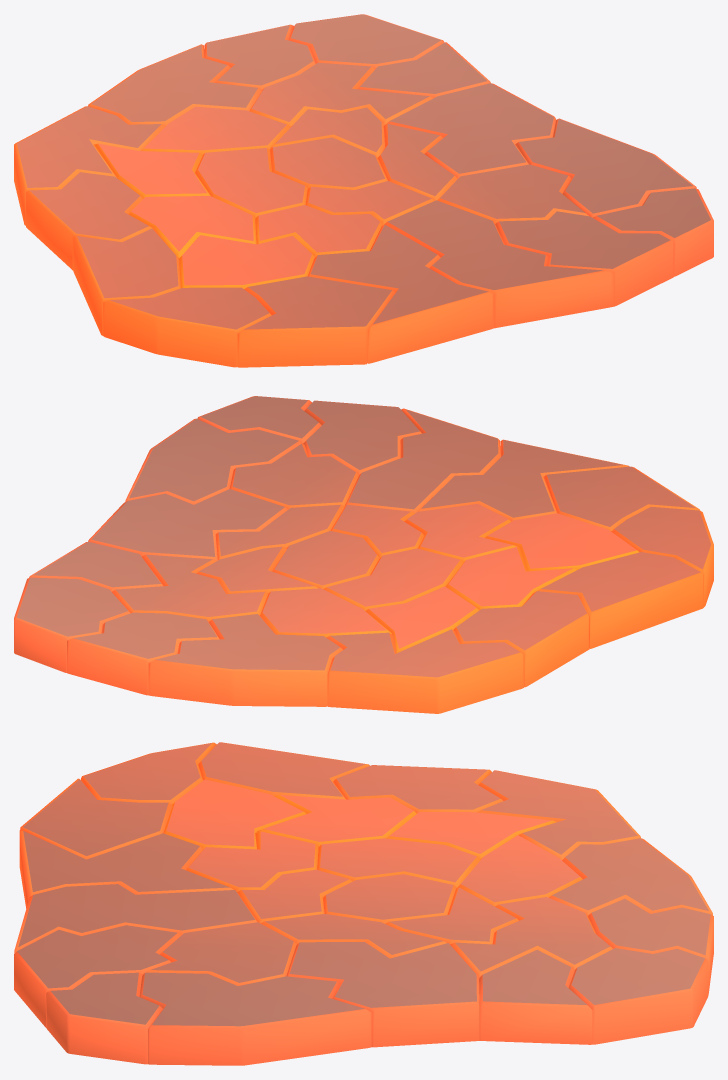
Rendered from ChaoSumo.fbx.
3 renders of one model, top to bottom at view 1: azimuth 30°, elevation 25°; view 2: azimuth 150°, elevation 25°; view 3: azimuth 270°, elevation 25°, orthographic. The views are drawn at different scales.
Parts seen in each view (by area): view 1: ParteChaoSumo.026, ParteChaoSumo.025, ParteChaoSumo.024, ParteChaoSumo.023, ParteChaoSumo.015, ParteChaoSumo.014, ParteChaoSumo.012, ParteChaoSumo.019, ParteChaoSumo.020, ParteChaoSumo.021, ParteChaoSumo.022, ParteChaoSumo.003 (+15 smaller); view 2: ParteChaoSumo.020, ParteChaoSumo.019, ParteChaoSumo.022, ParteChaoSumo.015, ParteChaoSumo.026, ParteChaoSumo.014, ParteChaoSumo.021, ParteChaoSumo.018, ParteChaoSumo.025, ParteChaoSumo.017, ParteChaoSumo.012, ParteChaoSumo.024 (+15 smaller); view 3: ParteChaoSumo.014, ParteChaoSumo.015, ParteChaoSumo.017, ParteChaoSumo.026, ParteChaoSumo.025, ParteChaoSumo.016, ParteChaoSumo.012, ParteChaoSumo.019, ParteChaoSumo.013, ParteChaoSumo.020, ParteChaoSumo.024, ParteChaoSumo.003 (+15 smaller).
Part boxes in pixels (left/top/right/bottom): ParteChaoSumo.026: left=384, top=200, right=613, bottom=328; ParteChaoSumo.025: left=307, top=224, right=493, bottom=363; ParteChaoSumo.024: left=237, top=276, right=395, bottom=367; ParteChaoSumo.023: left=103, top=287, right=271, bottom=367; ParteChaoSumo.015: left=385, top=83, right=555, bottom=178; ParteChaoSumo.014: left=515, top=118, right=696, bottom=217; ParteChaoSumo.012: left=495, top=211, right=674, bottom=306; ParteChaoSumo.019: left=88, top=44, right=261, bottom=125; ParteChaoSumo.020: left=14, top=106, right=165, bottom=225; ParteChaoSumo.021: left=26, top=172, right=153, bottom=270; ParteChaoSumo.022: left=73, top=228, right=180, bottom=335; ParteChaoSumo.003: left=249, top=62, right=433, bottom=127; ParteChaoSumo.020: left=326, top=629, right=523, bottom=713; ParteChaoSumo.019: left=148, top=614, right=342, bottom=706; ParteChaoSumo.022: left=537, top=552, right=703, bottom=648; ParteChaoSumo.015: left=88, top=489, right=287, bottom=560; ParteChaoSumo.026: left=345, top=408, right=500, bottom=513; ParteChaoSumo.014: left=125, top=418, right=302, bottom=504; ParteChaoSumo.021: left=453, top=591, right=589, bottom=687; ParteChaoSumo.018: left=67, top=612, right=219, bottom=695; ParteChaoSumo.025: left=418, top=439, right=629, bottom=521; ParteChaoSumo.017: left=14, top=577, right=130, bottom=672; ParteChaoSumo.012: left=303, top=400, right=421, bottom=474; ParteChaoSumo.024: left=543, top=466, right=700, bottom=531; ParteChaoSumo.014: left=139, top=972, right=371, bottom=1065; ParteChaoSumo.015: left=286, top=942, right=479, bottom=1047; ParteChaoSumo.017: left=568, top=948, right=708, bottom=1044; ParteChaoSumo.026: left=14, top=884, right=257, bottom=953; ParteChaoSumo.025: left=19, top=830, right=233, bottom=908; ParteChaoSumo.016: left=479, top=949, right=592, bottom=1044; ParteChaoSumo.012: left=14, top=925, right=181, bottom=1027; ParteChaoSumo.019: left=549, top=838, right=712, bottom=915; ParteChaoSumo.013: left=46, top=972, right=162, bottom=1064; ParteChaoSumo.020: left=477, top=770, right=640, bottom=859; ParteChaoSumo.024: left=20, top=778, right=172, bottom=859; ParteChaoSumo.003: left=450, top=897, right=612, bottom=977.
Size of the model in its own units: 16.68 by 1.04 by 17.22.
